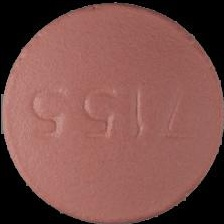0093-7155: (0, 0, 224, 224)
